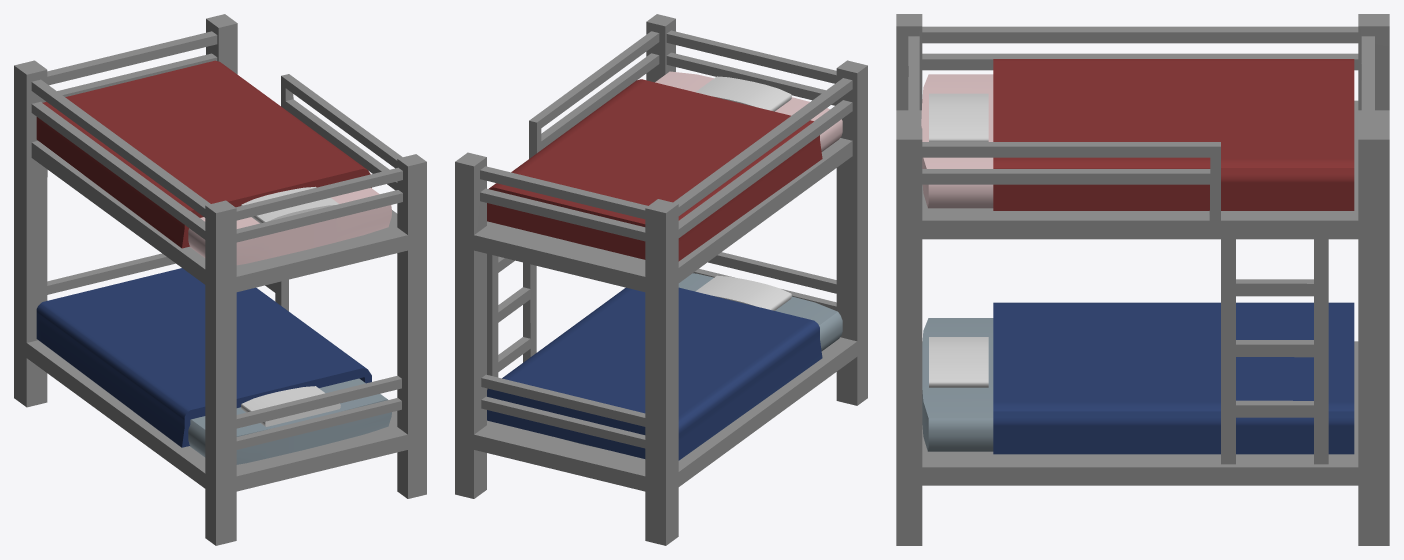
The model's file is bed.fbx.
The picture shows the model from 3 angles, left to right: view 1: azimuth 30°, elevation 25°; view 2: azimuth 150°, elevation 25°; view 3: azimuth 270°, elevation 25°; orthographic projection. The views are drawn at different scales.
Visible parts, largest first — view 1: bunk_bed1; view 2: bunk_bed1; view 3: bunk_bed1.
Boxes of the visible parts, x1=… form: bunk_bed1: x1=14, y1=14, x2=426, y2=545; bunk_bed1: x1=455, y1=14, x2=867, y2=545; bunk_bed1: x1=896, y1=14, x2=1389, y2=545.
Bounding box in the file's own units: 1.16 × 1.75 × 1.93.
